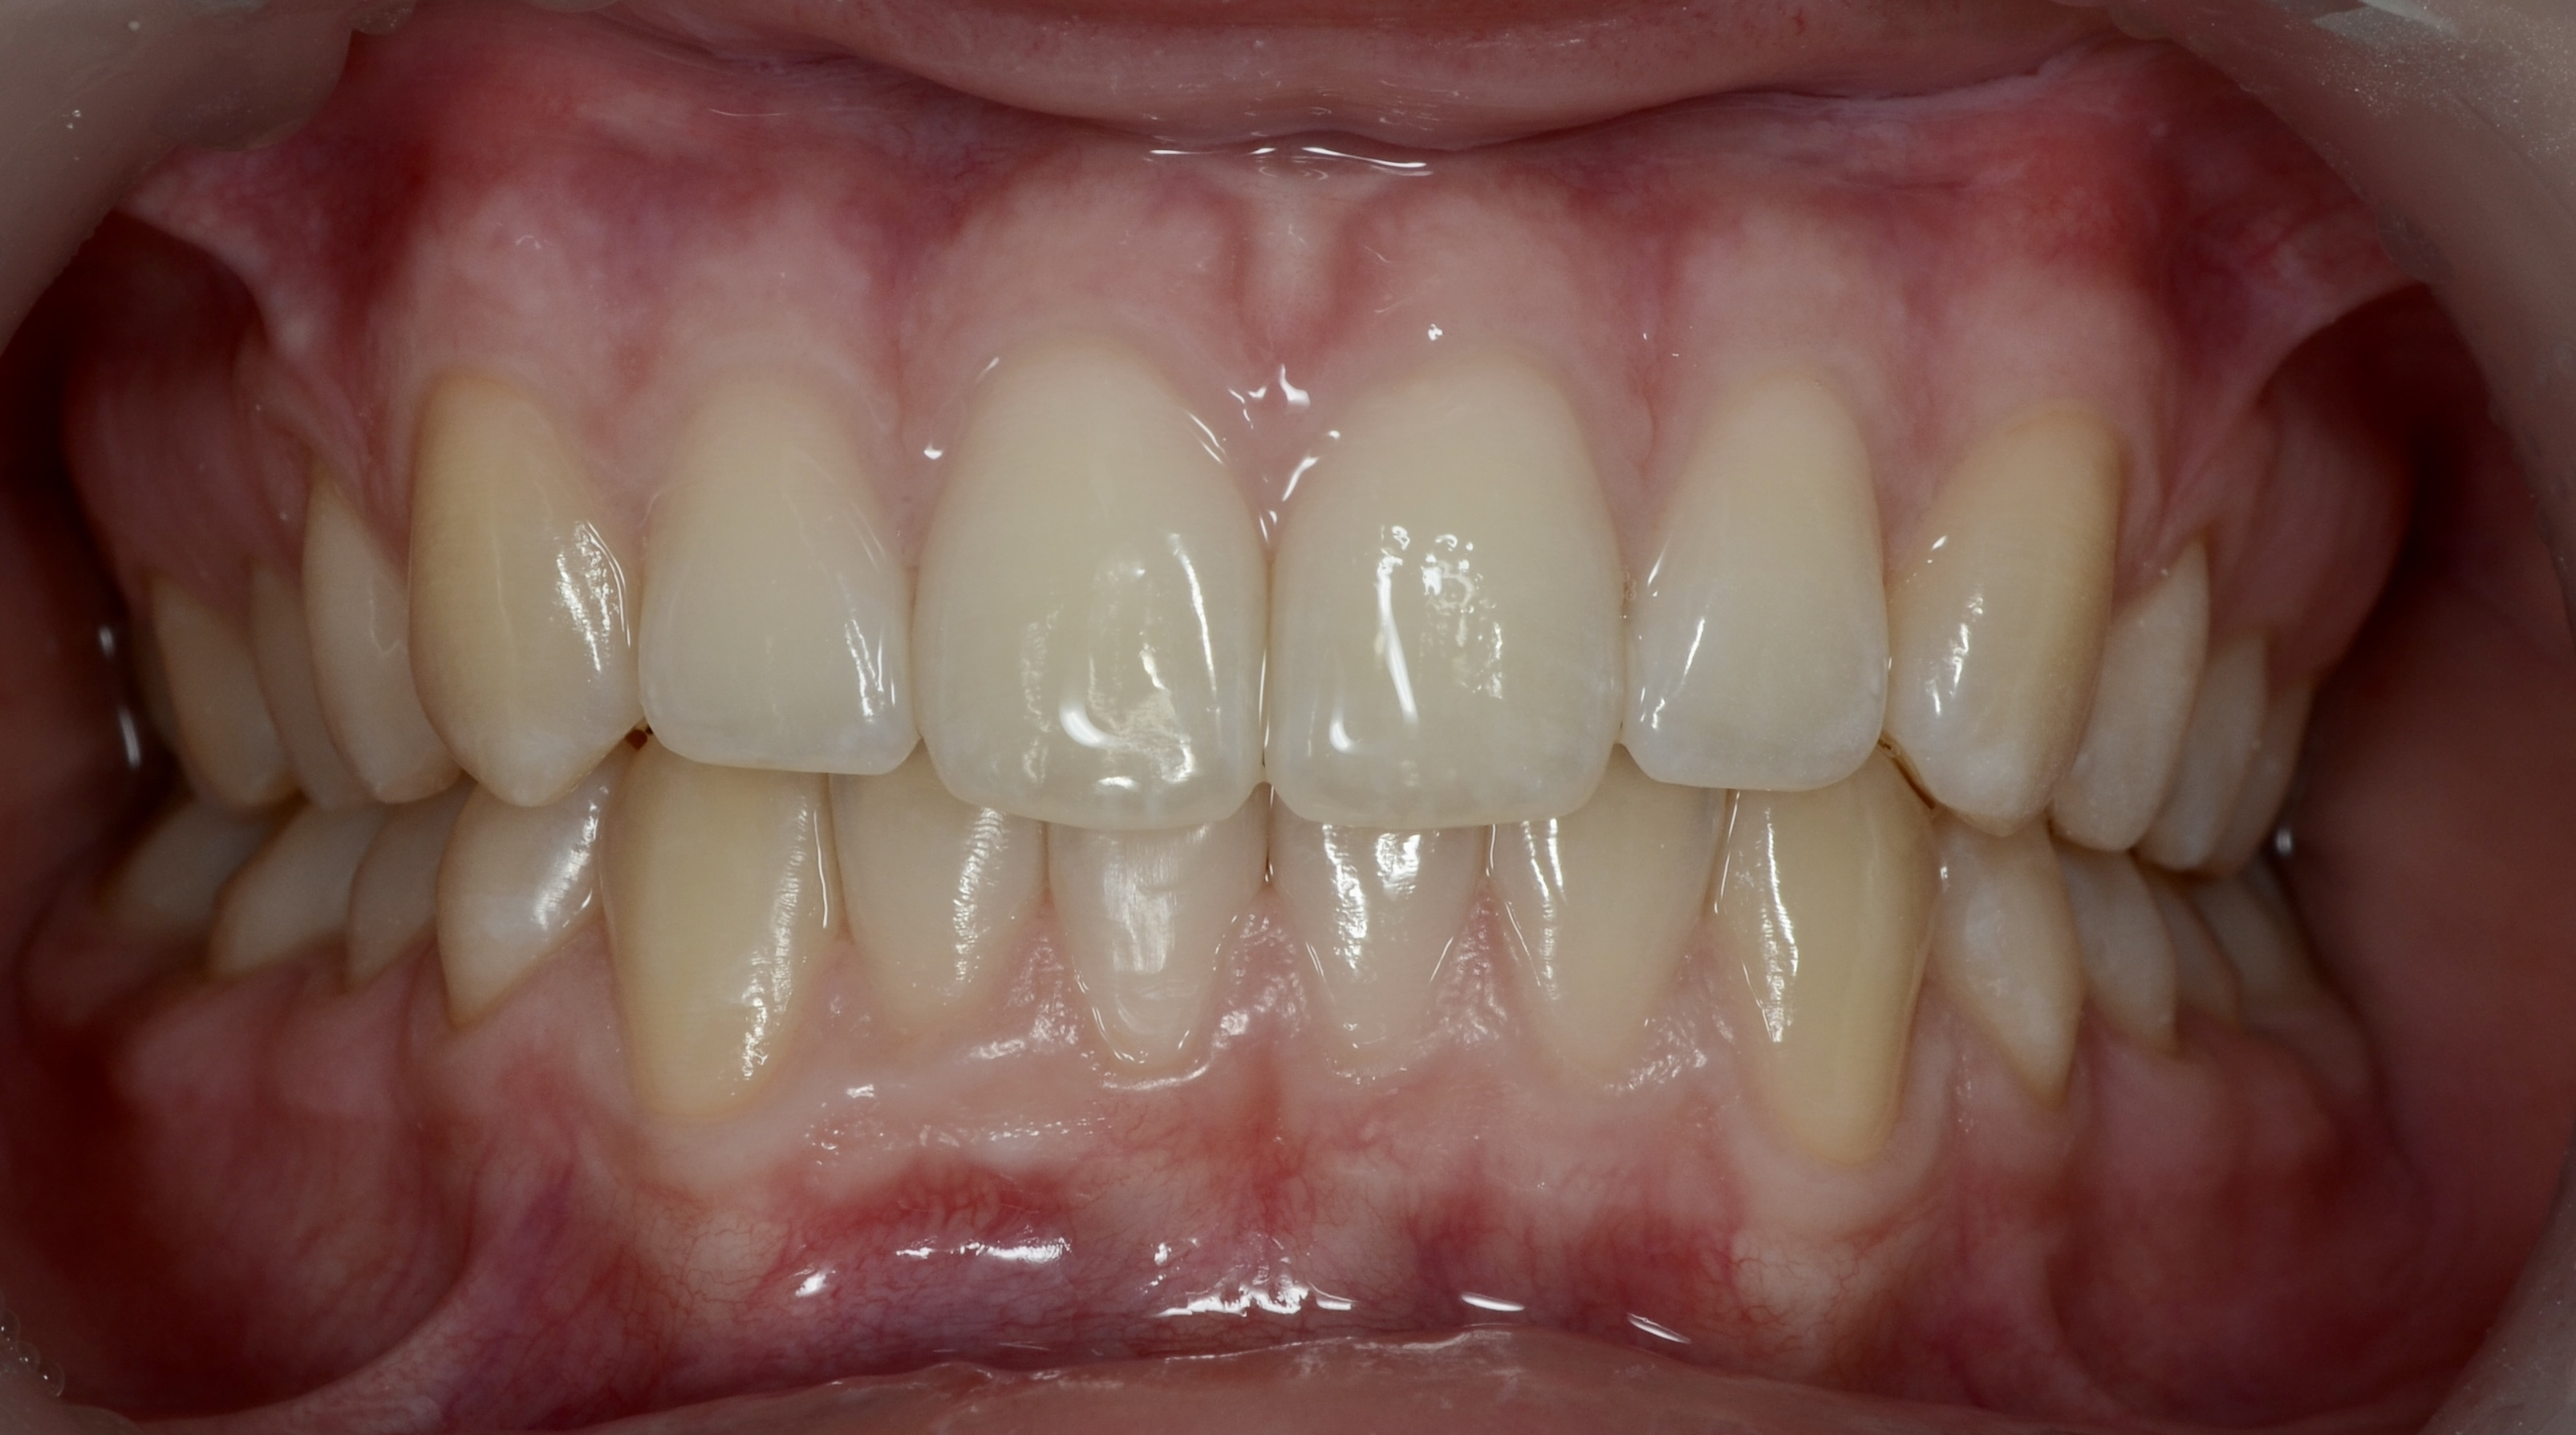LL1BC_healthy: (1929, 824, 2083, 1092)
LL1M_healthy: (2161, 894, 2226, 1030)
LL2BC_healthy: (2080, 859, 2173, 1036)
LL2M_healthy: (2231, 882, 2304, 1004)
LLCI_healthy: (1269, 824, 1493, 1036)
LLC_healthy: (1723, 785, 1935, 1159)
LLLI_healthy: (1488, 816, 1717, 1085)
LR1BC_healthy: (436, 797, 602, 1018)
LR1M_healthy: (210, 834, 346, 974)
LR2BC_healthy: (350, 815, 435, 974)
LR2M_healthy: (106, 827, 230, 933)
LRCI_healthy: (1044, 831, 1270, 1060)
LRC_healthy: (604, 774, 830, 1113)
LRLI_healthy: (830, 792, 1044, 1052)
UL1BC_healthy: (2060, 537, 2207, 848)
UL1M_healthy: (2240, 680, 2306, 868)
UL2BC_healthy: (2156, 642, 2265, 869)
ULCI_healthy: (1261, 362, 1620, 824)
ULC_healthy: (1889, 421, 2117, 836)
ULLI_healthy: (1631, 375, 1889, 788)
UR1BC_healthy: (306, 486, 422, 808)
UR1M_healthy: (155, 588, 284, 815)
UR2BC_healthy: (242, 583, 327, 802)
URCI_healthy: (915, 345, 1263, 831)
URC_healthy: (410, 391, 638, 801)
URLI_healthy: (641, 380, 913, 776)
